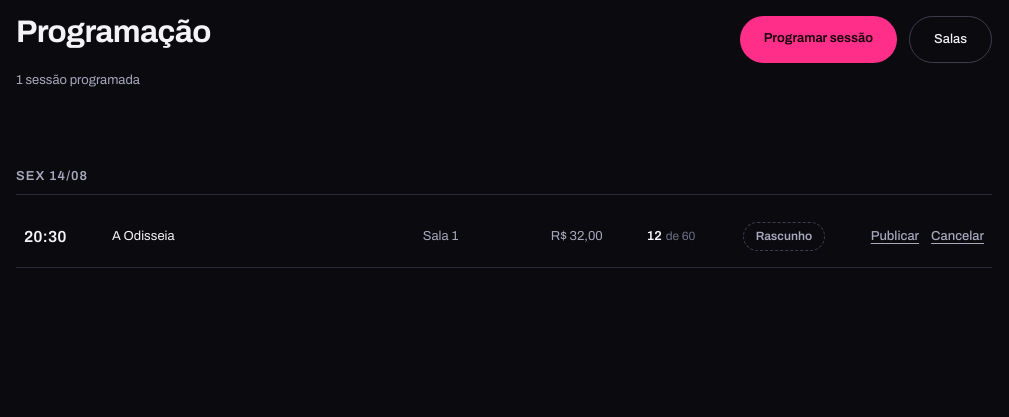
Test: as ações da grade › mostra a frase do servidor quando a ação é recusada
What coordinates should you click on to do the following:
click the button "Publicar"
I would click on:
 (895, 237)
Its box is [871, 222, 919, 251].
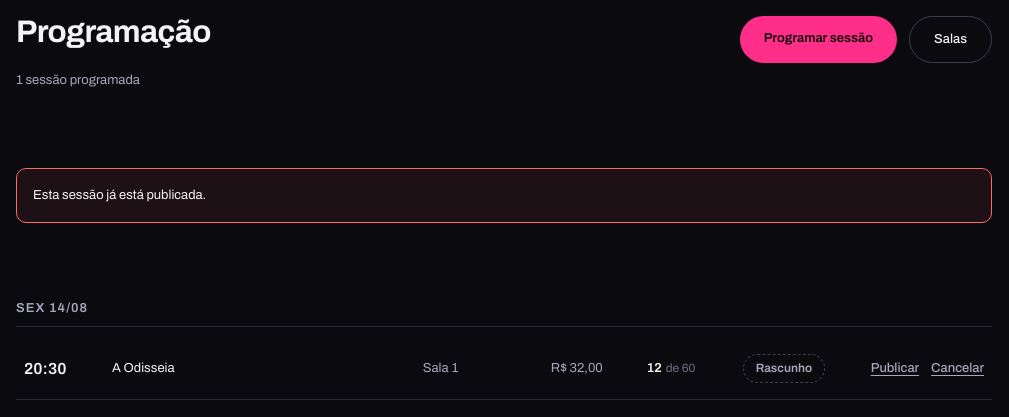
Check: the message reads "Esta sessão já está publicada.", box [33, 188, 206, 202]
